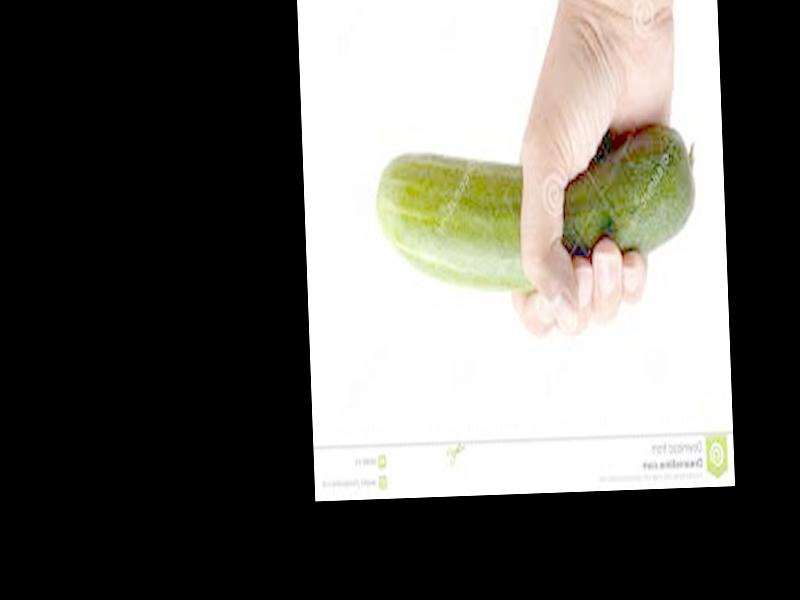Cucumber: (372, 125, 696, 299)
